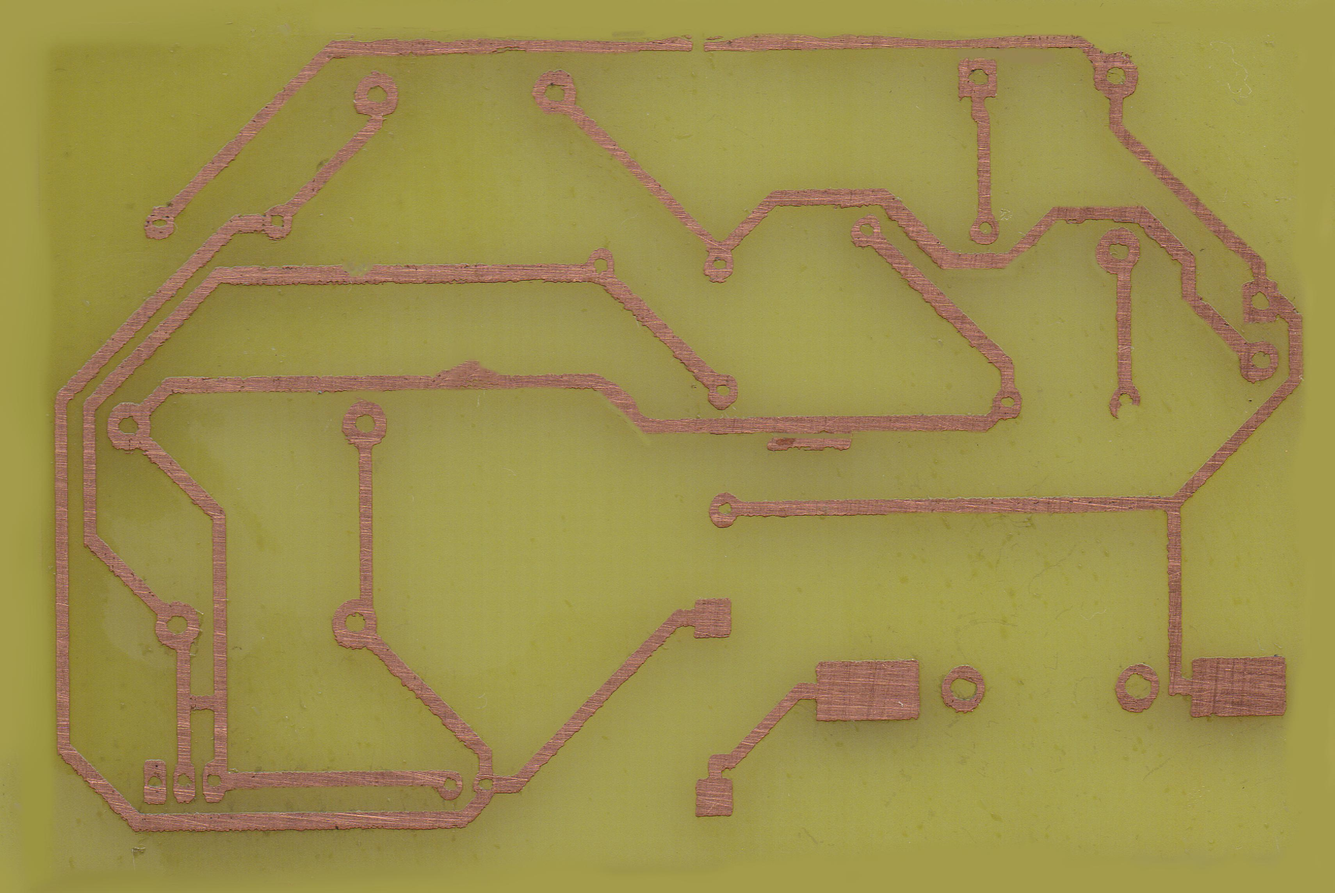missing_hole: (1105, 378, 1146, 420)
mouse_bite: (334, 259, 381, 291)
open_circuit: (680, 31, 716, 55)
short: (180, 689, 226, 717)
spur: (431, 354, 505, 396)
spurious_copper: (766, 433, 858, 458)
